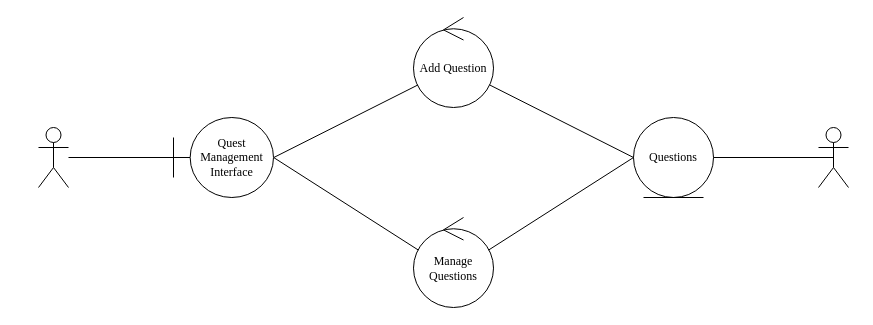
The diagram is 873 pixels wide and 325 high, and some of its shapes have lost their labels. Each missing label, with the centre of its shape:
"Database" belongs at point (833, 157).
"Oversight User" belongs at point (53, 157).
